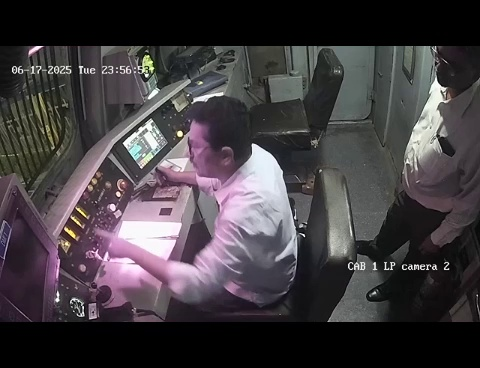horn_inactive: (87, 269, 124, 313)
